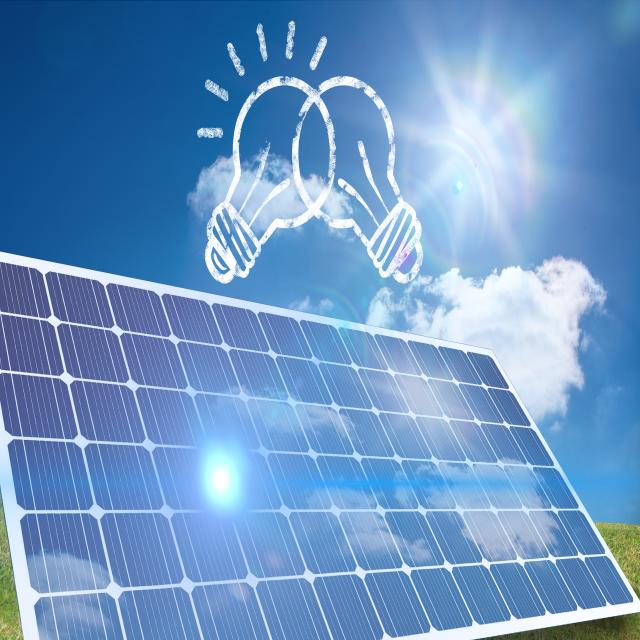clean-solar-panel: (0, 262, 51, 319)
